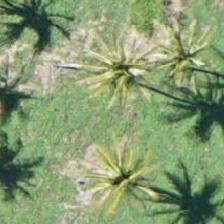coconut_tree: (79, 37, 169, 127), (140, 14, 223, 104), (75, 140, 165, 223)
